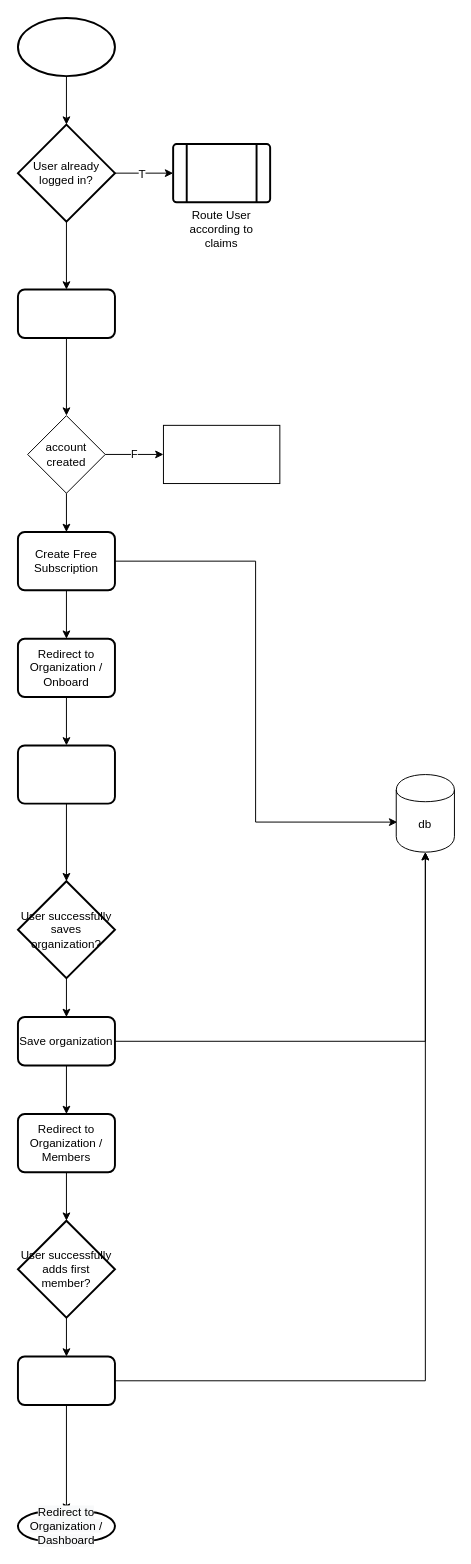
Image size: 471x1564. Some labels were removed from this diagram. Here are the shapes that lost their labels. From the top down, the centre of each, then its label:
[65,46]: Person clicks "Try Free"
[65,313]: Redirect to B2C Sign Up
[221,454]: Redirect back to home? FAQs?
[65,774]: User fill in basic Organization information
[65,1380]: Save member
